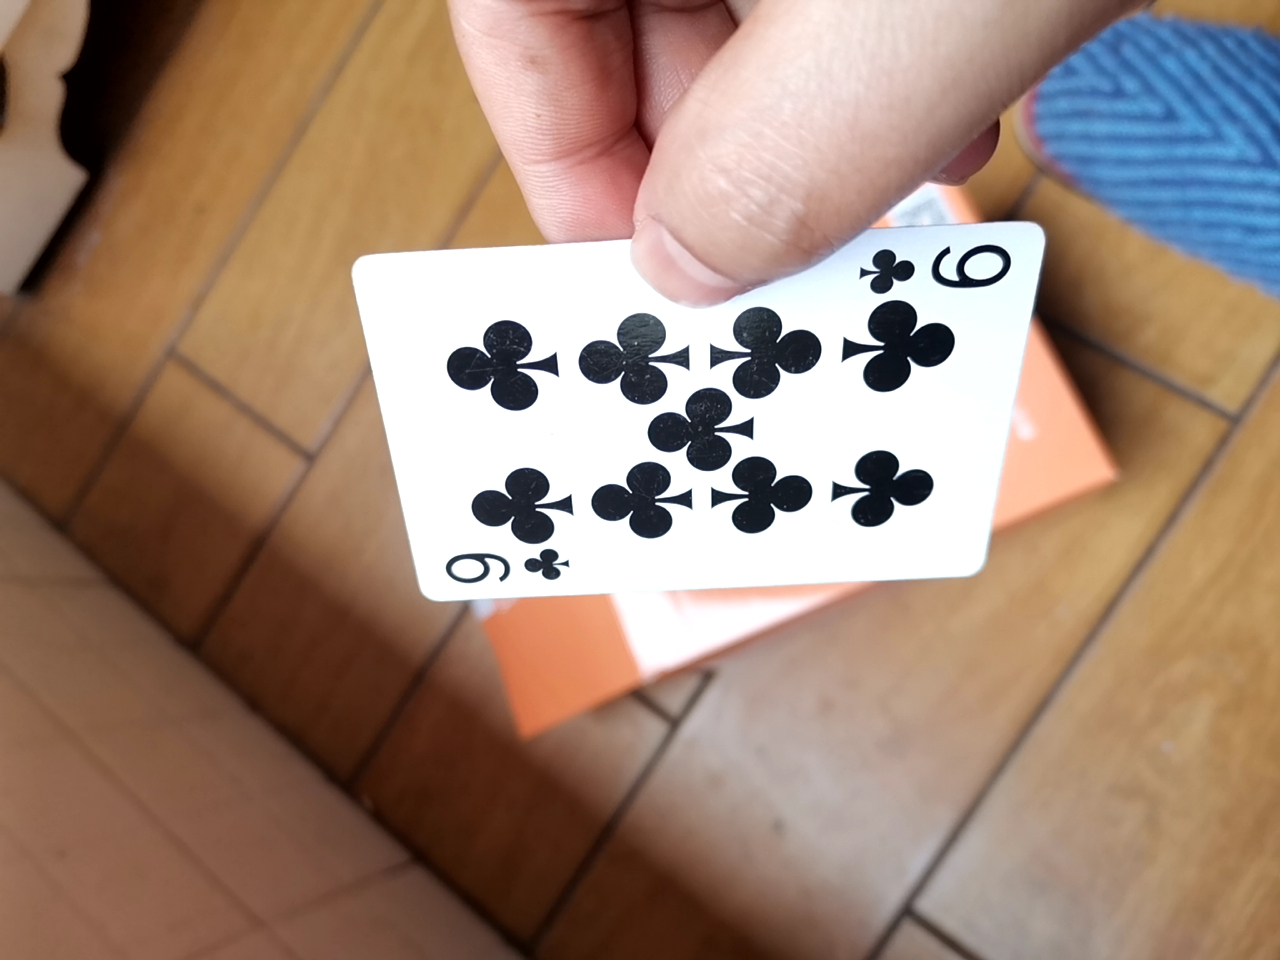mh 9: (344, 199, 1037, 636)
